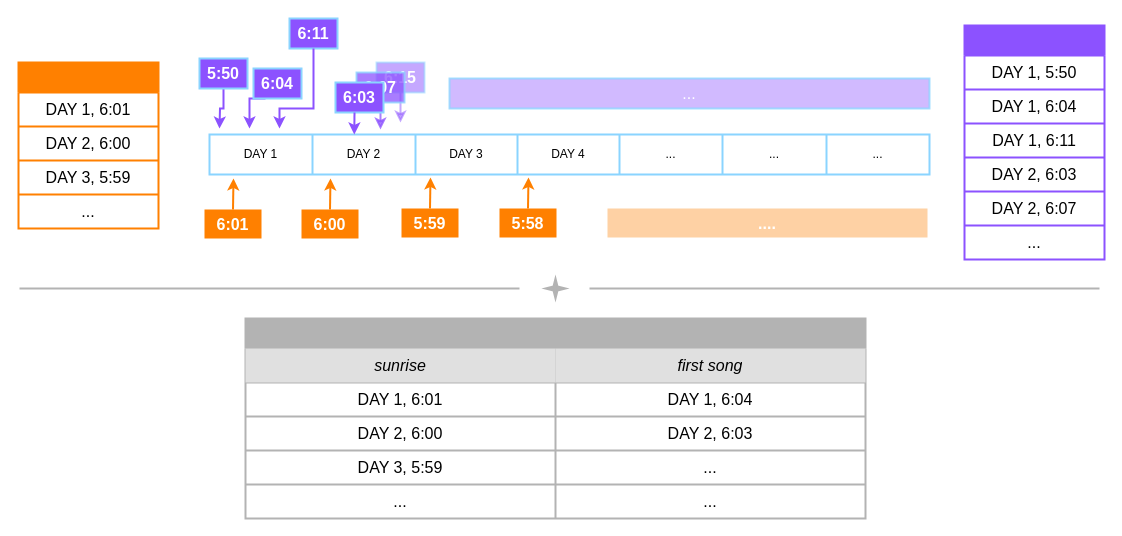
Image size: 1122x536. Some labels were removed from this diagram. Each missing label, with the box of its shape:
Bird Songs: (963, 24, 1105, 260)
First song after sunrise: (244, 317, 866, 519)
Sunrises: (17, 61, 159, 229)
